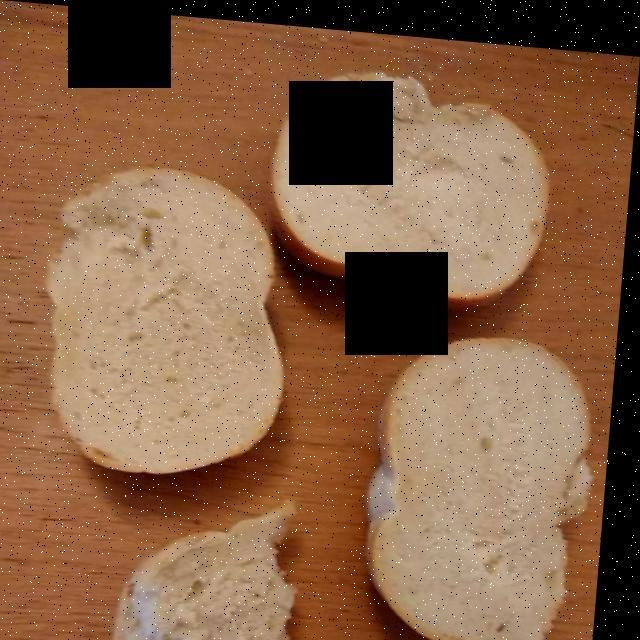bread: (34, 61, 601, 640)
